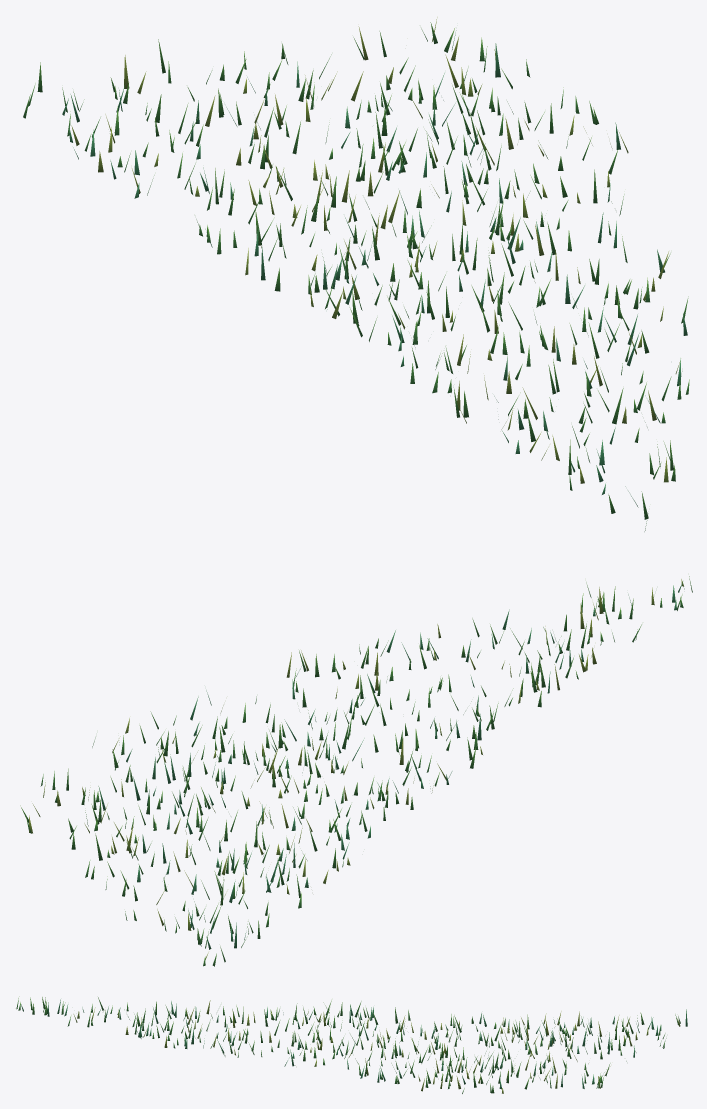
The picture shows the model from 3 angles, top to bottom: view 1: azimuth 30°, elevation 25°; view 2: azimuth 150°, elevation 25°; view 3: azimuth 270°, elevation 25°; orthographic projection. The views are drawn at different scales.
Visible parts, largest first — view 1: gc_46; view 2: gc_46; view 3: gc_46.
Boxes of the visible parts, x1=… form: gc_46: x1=23, y1=17, x2=689, y2=531; gc_46: x1=20, y1=576, x2=692, y2=966; gc_46: x1=16, y1=996, x2=687, y2=1093.
Size of the model in its own units: 4.08 by 0.8264 by 11.92.
1 material, 1 textured.
